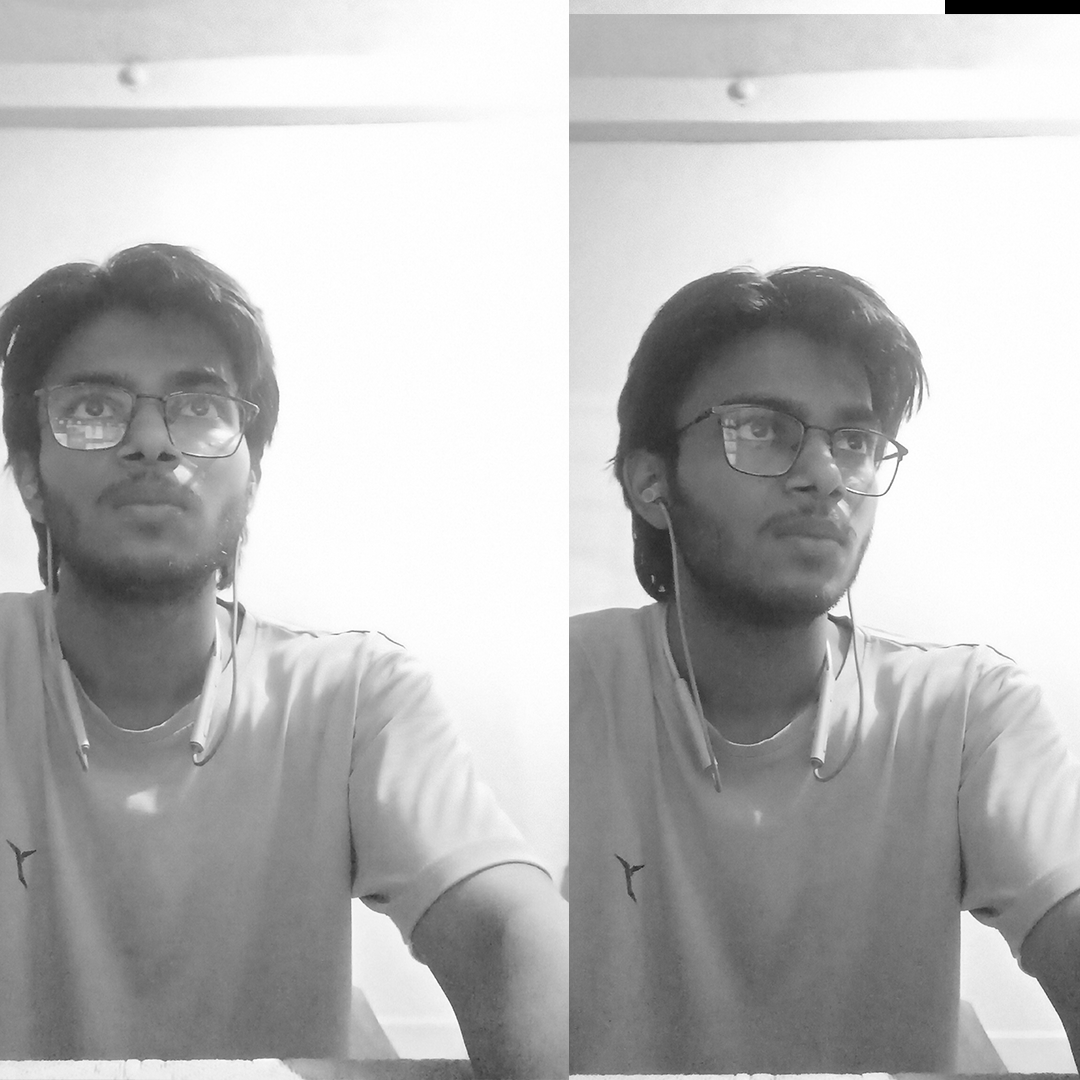Focused: (4, 220, 298, 635)
distracted: (623, 194, 924, 666)
